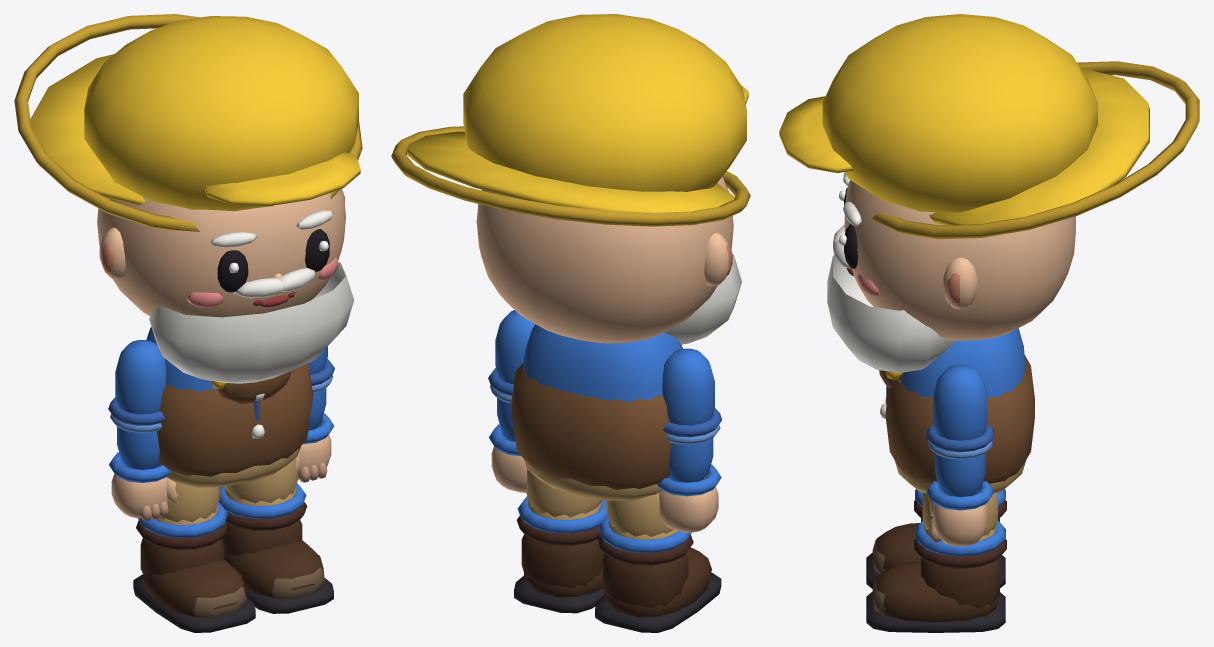
Rendered from bill.glb.
3 renders of one model, left to right at view 1: azimuth 30°, elevation 25°; view 2: azimuth 150°, elevation 25°; view 3: azimuth 270°, elevation 25°, orthographic. The views are drawn at different scales.
Visible parts, largest first — view 1: hat, head, torso, hair, shin_r, shin_l, arm_r, hand_r, leg_l, leg_r, arm_l, hand_l (+2 smaller); view 2: hat, head, torso, shin_r, shin_l, arm_r, arm_l, hair, leg_r, leg_l, hand_r, hand_l; view 3: hat, head, torso, shin_l, arm_l, hair, shin_r, hand_l, leg_l.
Part boxes in pixels (bbox=[...]): hat: bbox=[14, 14, 362, 231]; head: bbox=[97, 188, 345, 317]; torso: bbox=[146, 327, 313, 487]; hair: bbox=[149, 262, 354, 383]; shin_r: bbox=[133, 502, 255, 632]; shin_l: bbox=[219, 483, 333, 613]; arm_r: bbox=[108, 340, 170, 482]; hand_r: bbox=[111, 463, 178, 521]; leg_l: bbox=[224, 458, 298, 505]; leg_r: bbox=[155, 482, 220, 524]; arm_l: bbox=[303, 346, 334, 443]; hand_l: bbox=[295, 425, 331, 482]; hat: bbox=[391, 14, 750, 226]; head: bbox=[476, 176, 733, 343]; torso: bbox=[510, 324, 682, 500]; shin_r: bbox=[595, 516, 721, 632]; shin_l: bbox=[514, 496, 607, 613]; arm_r: bbox=[657, 348, 722, 496]; arm_l: bbox=[488, 310, 535, 456]; hair: bbox=[665, 254, 741, 344]; leg_r: bbox=[606, 492, 678, 539]; leg_l: bbox=[525, 469, 601, 519]; hand_r: bbox=[659, 475, 718, 532]; hand_l: bbox=[491, 437, 526, 492]; hat: bbox=[779, 14, 1199, 239]; head: bbox=[843, 173, 1075, 340]; torso: bbox=[879, 328, 1034, 493]; shin_l: bbox=[866, 521, 1006, 632]; arm_l: bbox=[926, 364, 994, 510]; hair: bbox=[827, 224, 954, 372]; shin_r: bbox=[866, 489, 1006, 588]; hand_l: bbox=[929, 490, 986, 546]; leg_l: bbox=[922, 492, 997, 541].
Size of the model in its own units: 0.584 by 1.02 by 0.6851.
1 material, 1 textured.
